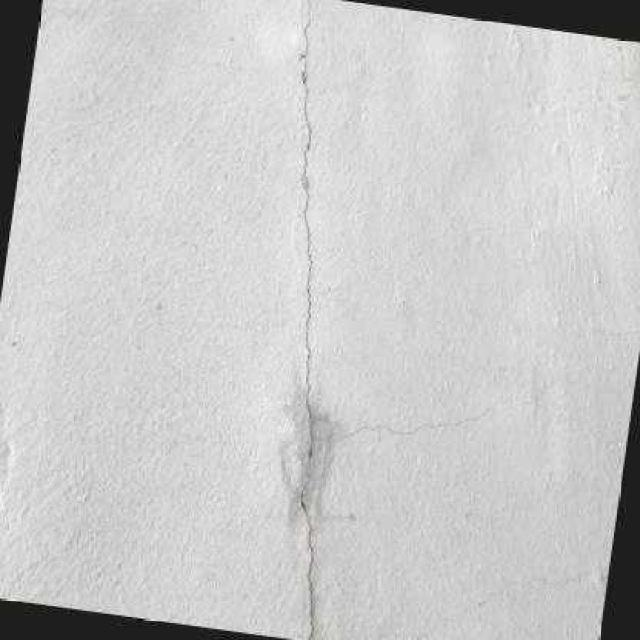D00: (321, 375, 575, 443), (299, 0, 315, 640)
